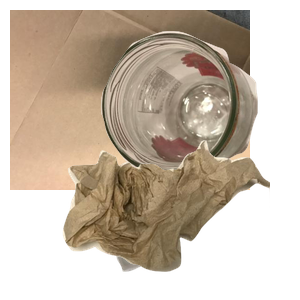cardboard: (10, 10, 250, 190)
glass: (98, 29, 300, 198)
plastic: (85, 163, 235, 300)
trash: (60, 138, 300, 300)
